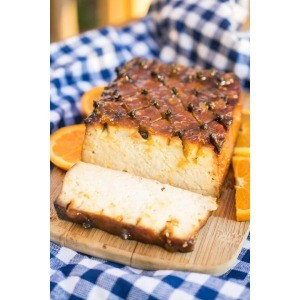tofu_brain food: (56, 54, 248, 233)
